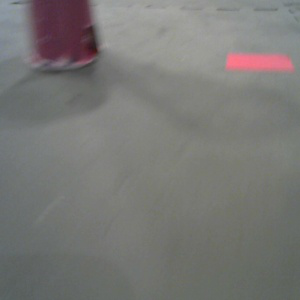middle: (22, 1, 106, 74)
